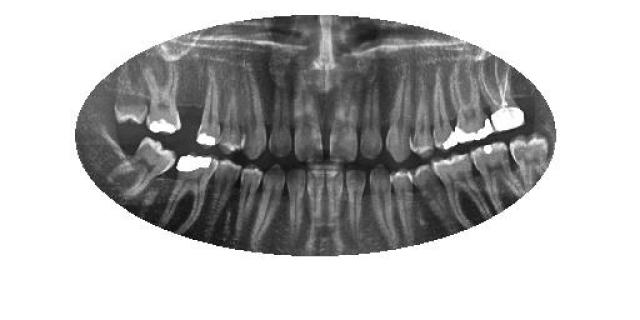Fillings: (160, 151, 219, 235), (470, 138, 525, 214), (448, 71, 494, 144), (140, 64, 182, 134), (432, 71, 458, 150), (196, 78, 222, 148)
Implant: (478, 58, 526, 134)
